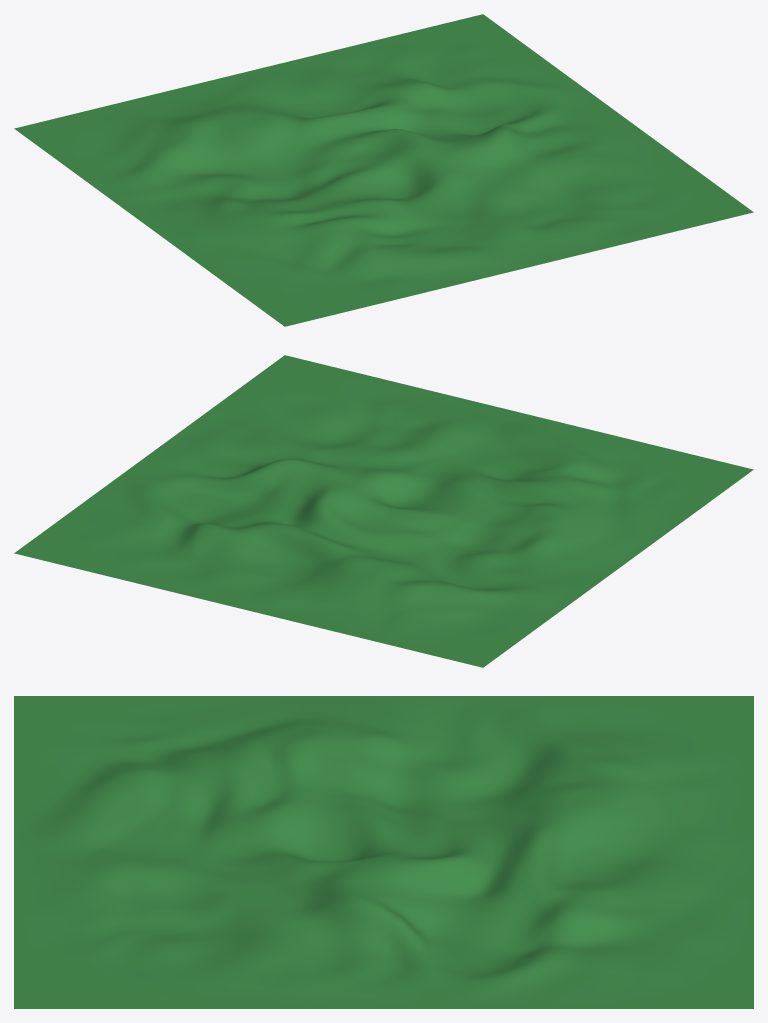
File: Terrain.V3.glb
The picture shows the model from 3 angles, top to bottom: view 1: azimuth 30°, elevation 25°; view 2: azimuth 150°, elevation 25°; view 3: azimuth 270°, elevation 25°; orthographic projection. The views are drawn at different scales.
Parts seen in each view (by area): view 1: Landscape.001; view 2: Landscape.001; view 3: Landscape.001.
Part boxes in pixels (left/top/right/bottom): Landscape.001: left=14, top=14, right=753, bottom=326; Landscape.001: left=14, top=355, right=753, bottom=667; Landscape.001: left=14, top=696, right=753, bottom=1008.
Bounding box in the file's own units: 5 × 0.265 × 5.
